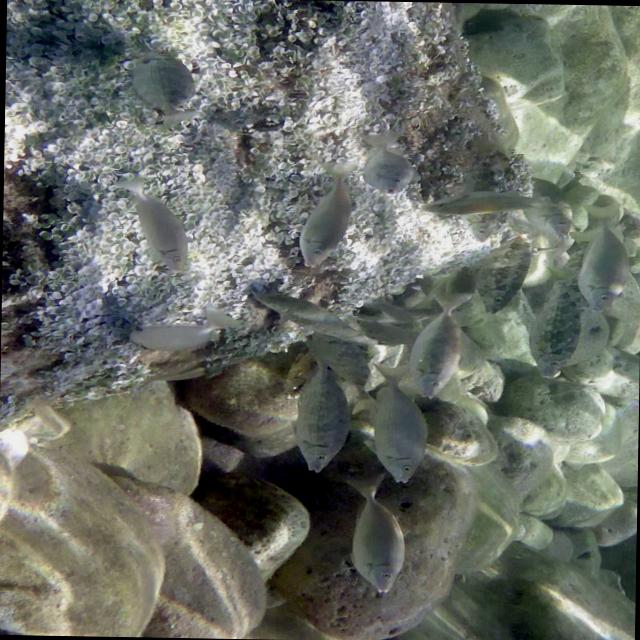Sokar Baligi: (91, 168, 209, 282), (334, 471, 412, 600)
